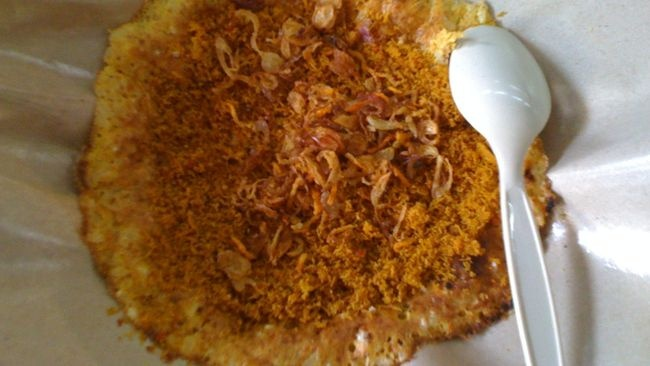kerak_telor: (69, 0, 544, 362)
